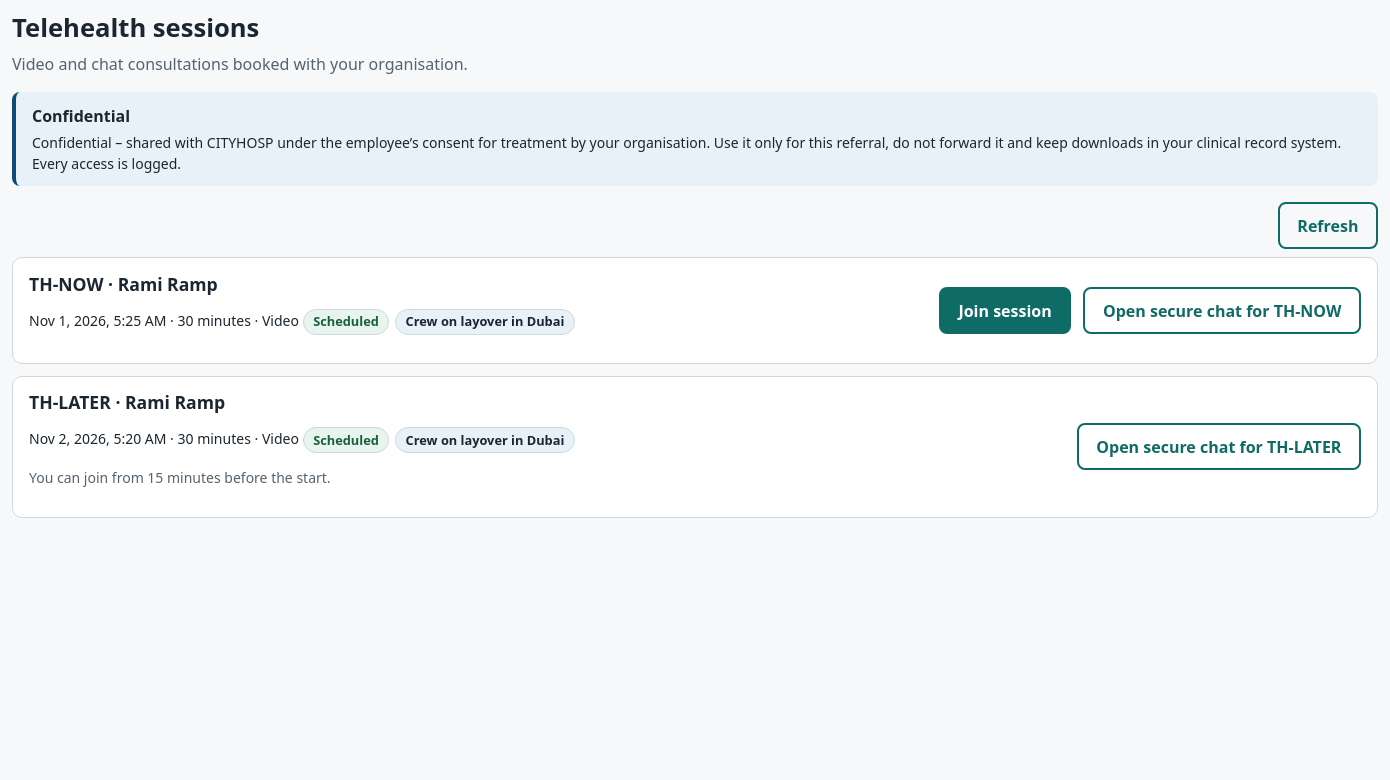
Scenario: telehealth screen › hides join before the window opens and shows consent_required errors inline
expect the text "You can join from 15 minutes before the start." is shown: met, box [29,468,331,487]
Click the button "Join session".
click(1005, 310)  # box [939,287,1071,334]
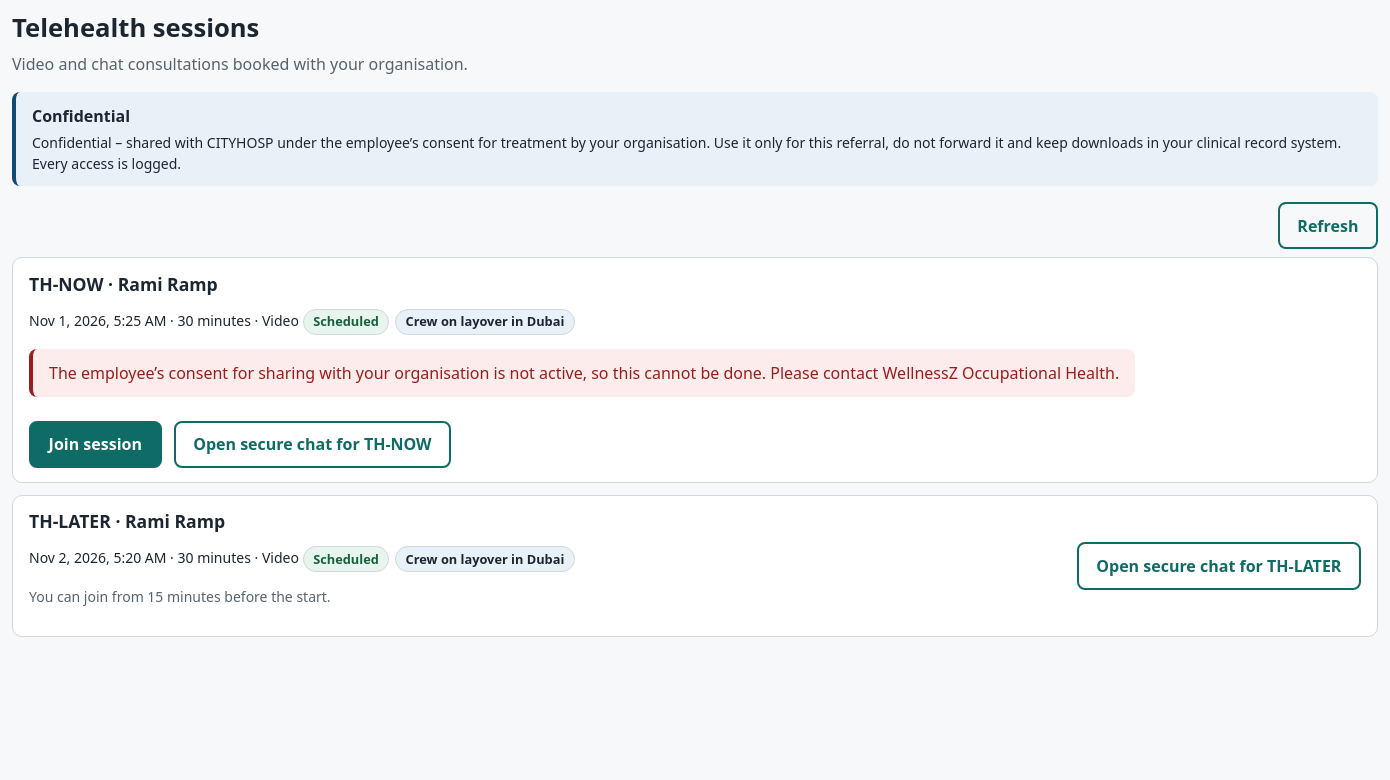
expect the text "consent for sharing with your organisation is not active" is shown: met, box [49,362,1119,384]
